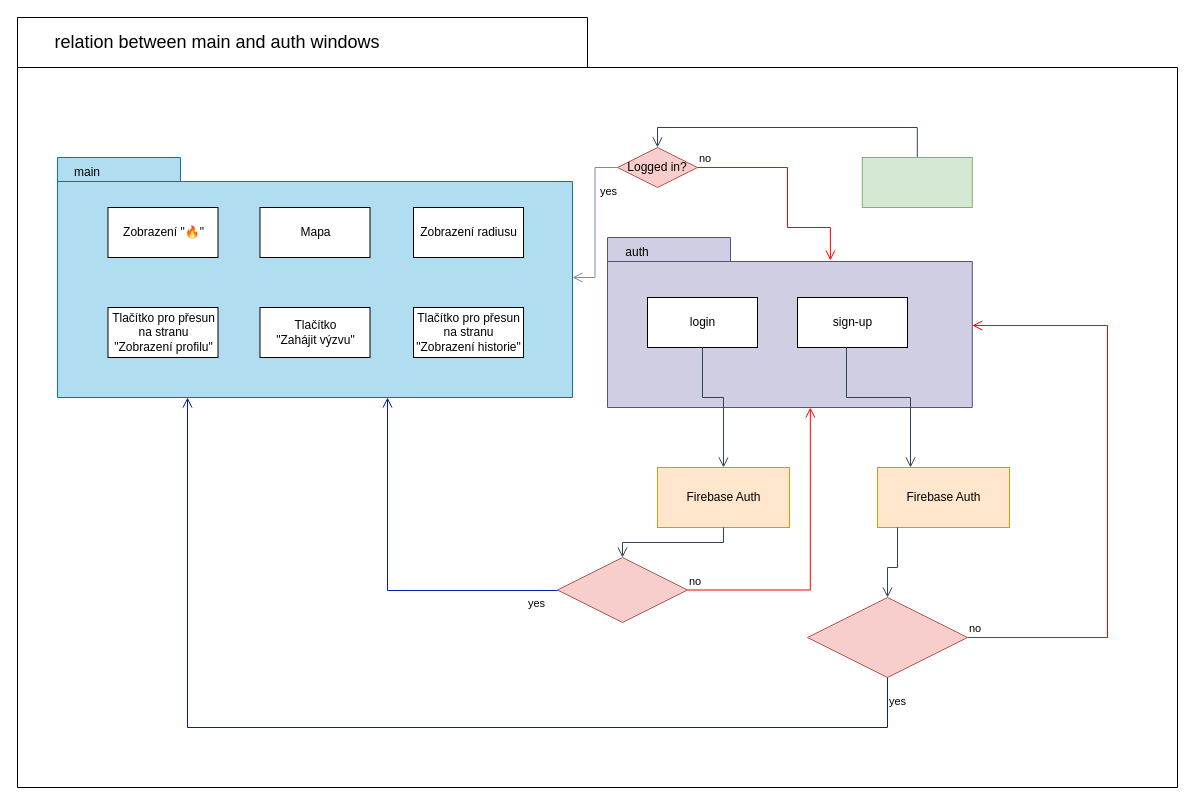
This 1195x805 diagram has some shape labels left out. The centre of each missing label's shape, as x and y in pixels:
"App on-start" goes at [916,182].
"Succesful sign-up" goes at [887,637].
"User exists" goes at [622,589].
